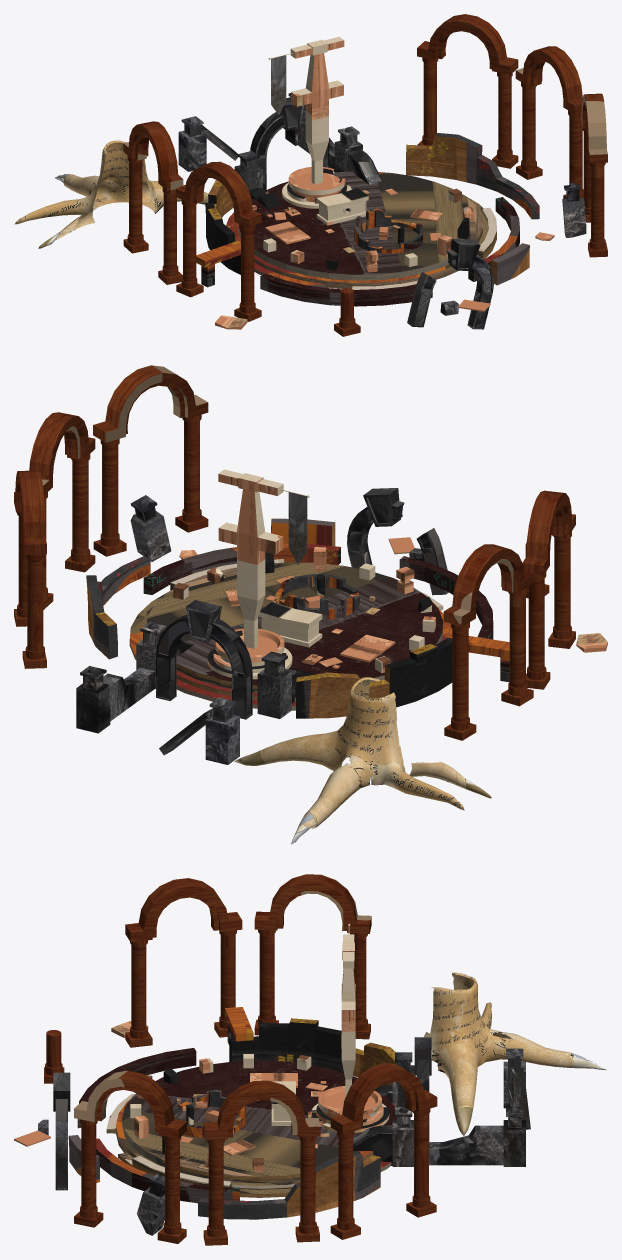
Rendered from altar.fbx.
3 renders of one model, top to bottom at view 1: azimuth 30°, elevation 25°; view 2: azimuth 150°, elevation 25°; view 3: azimuth 270°, elevation 25°, orthographic. The views are drawn at different scales.
Visible parts, largest first — view 1: node_Platform_-3306_4, node_Arches_-3290_2, node_Entrance_-3270_1, node_Altar_-3260_3, node_Tree_-3298_5, node_Flag_-3316_6; view 2: node_Platform_-3306_4, node_Arches_-3290_2, node_Entrance_-3270_1, node_Altar_-3260_3, node_Tree_-3298_5, node_Flag (1)_-3280_10; view 3: node_Arches_-3290_2, node_Platform_-3306_4, node_Entrance_-3270_1, node_Tree_-3298_5, node_Altar_-3260_3.
Part boxes in pixels (x1,y1,x2,y2): node_Platform_-3306_4: (196, 133, 539, 306); node_Arches_-3290_2: (123, 14, 607, 336); node_Entrance_-3270_1: (178, 93, 586, 329); node_Altar_-3260_3: (215, 36, 554, 329); node_Tree_-3298_5: (14, 140, 208, 248); node_Flag_-3316_6: (271, 55, 286, 114); node_Platform_-3306_4: (86, 518, 509, 718); node_Arches_-3290_2: (14, 365, 575, 740); node_Entrance_-3270_1: (76, 488, 448, 764); node_Altar_-3260_3: (173, 469, 607, 679); node_Tree_-3298_5: (234, 677, 491, 844); node_Flag (1)_-3280_10: (288, 492, 306, 564); node_Arches_-3290_2: (44, 874, 437, 1245); node_Platform_-3306_4: (68, 1007, 396, 1219); node_Entrance_-3270_1: (38, 1037, 530, 1235); node_Tree_-3298_5: (424, 972, 606, 1135); node_Altar_-3260_3: (14, 924, 389, 1172).
Size of the model in its own units: 10048 by 4269 by 10273.
